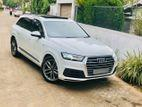car: (10, 14, 120, 84)
